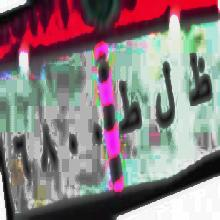0: (66, 123, 86, 158), (91, 112, 105, 156)
6: (14, 126, 32, 188)
8: (38, 122, 58, 177)
Taa: (118, 71, 142, 140)
Thaa: (185, 45, 212, 118)
laam: (152, 54, 179, 132)
